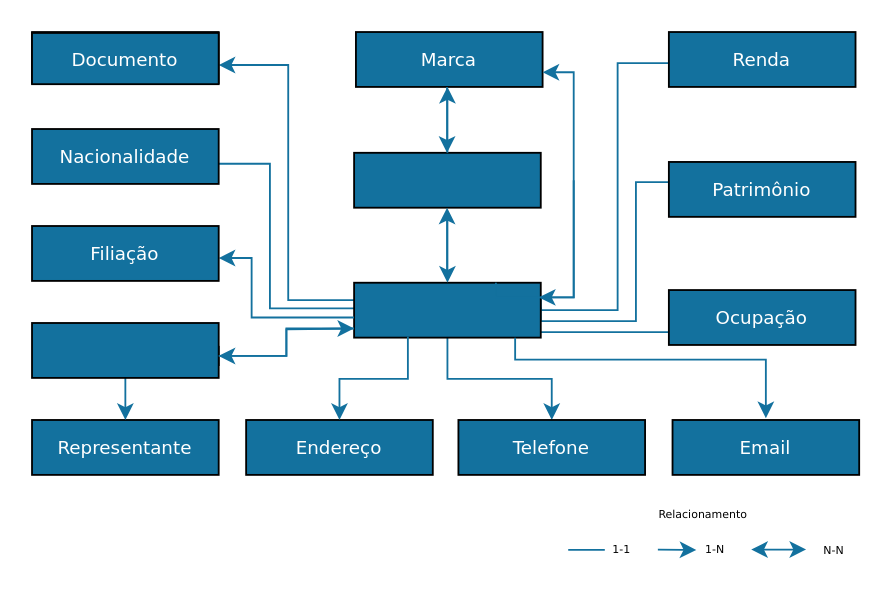
The diagram is 893 pixels wide and 598 high, and some of its shapes have lost their labels. Here are the shapes that lost their labels. From the top down, the centre of each, then its label:
At (x=446, y=179): "Instituição".
At (x=446, y=309): "Cliente PN".
At (x=124, y=349): "Produto ou Serviço".
